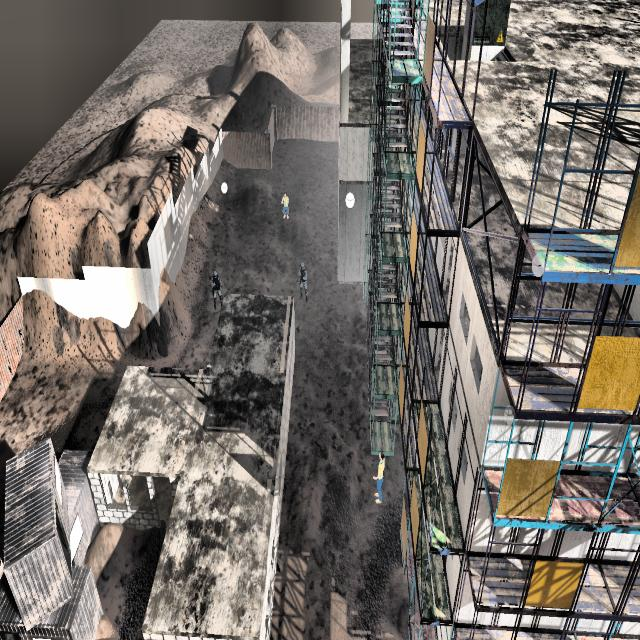bad: (206, 267, 226, 315), (296, 254, 311, 304)
good: (365, 439, 389, 512), (276, 182, 292, 225)
